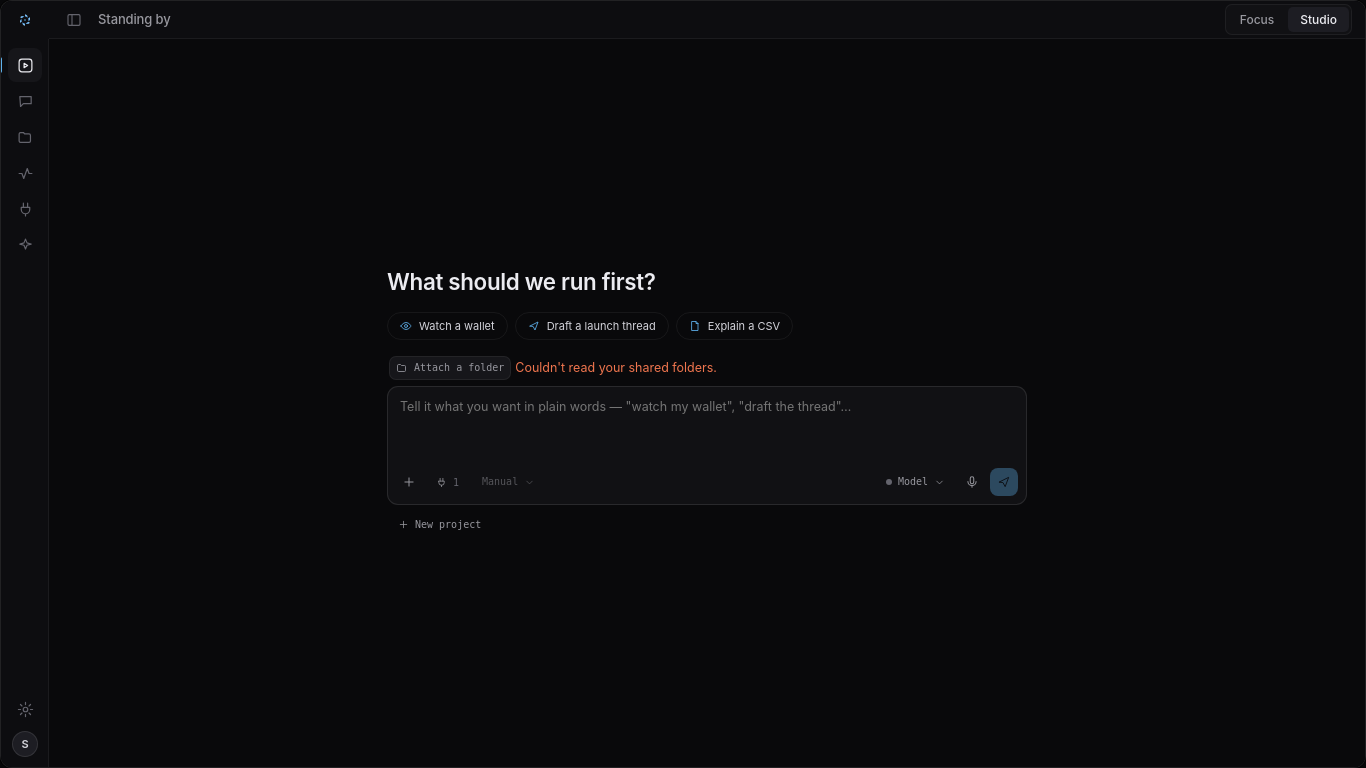
renderer bootstrap › swaps the outlet when a rail destination is clicked and leaves Settings
Click the button named "Settings" at (25, 709), box [8, 692, 42, 726]
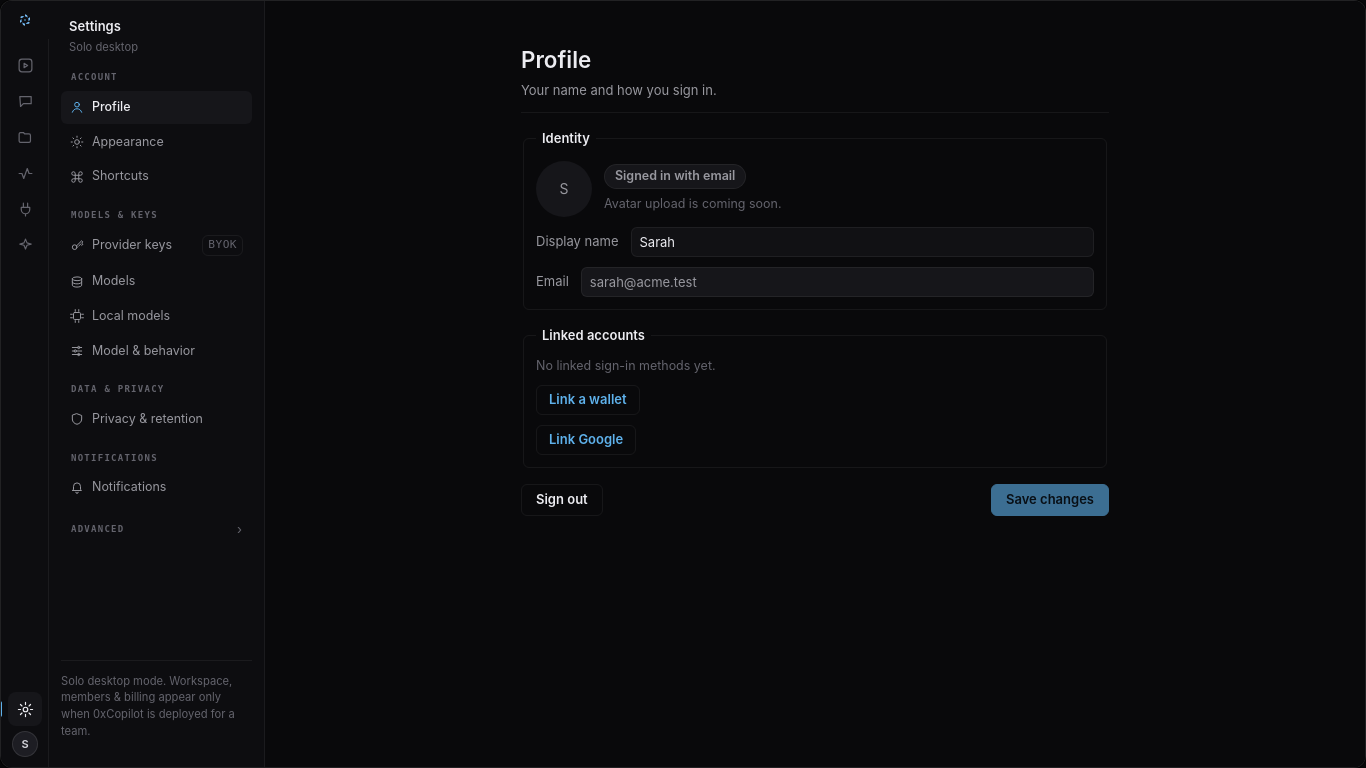
Expected: the element with test id "settings-surface" is shown
Click the button named "Activity" at (25, 173), box [8, 156, 42, 190]
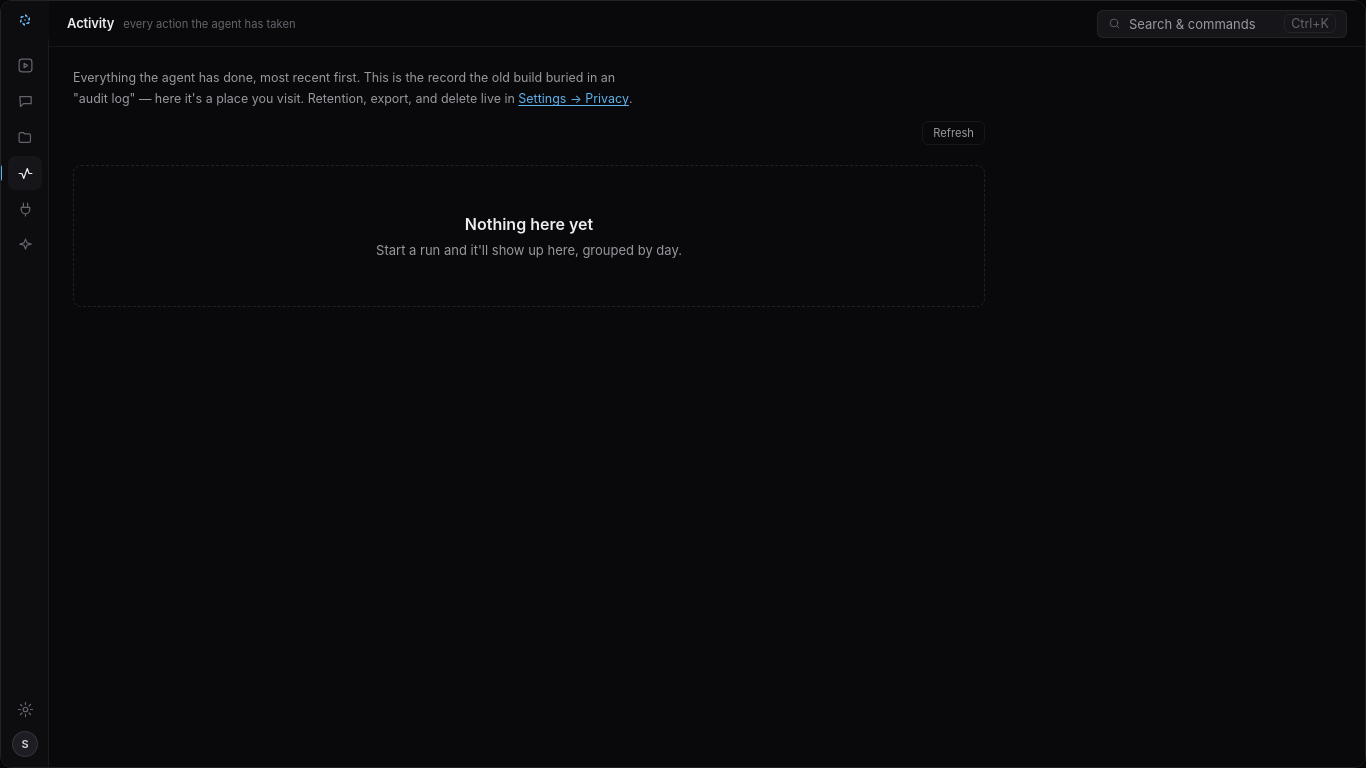
Expected: the element with test id "settings-surface" is gone
Expected: the element with test id "activity-destination" is shown
